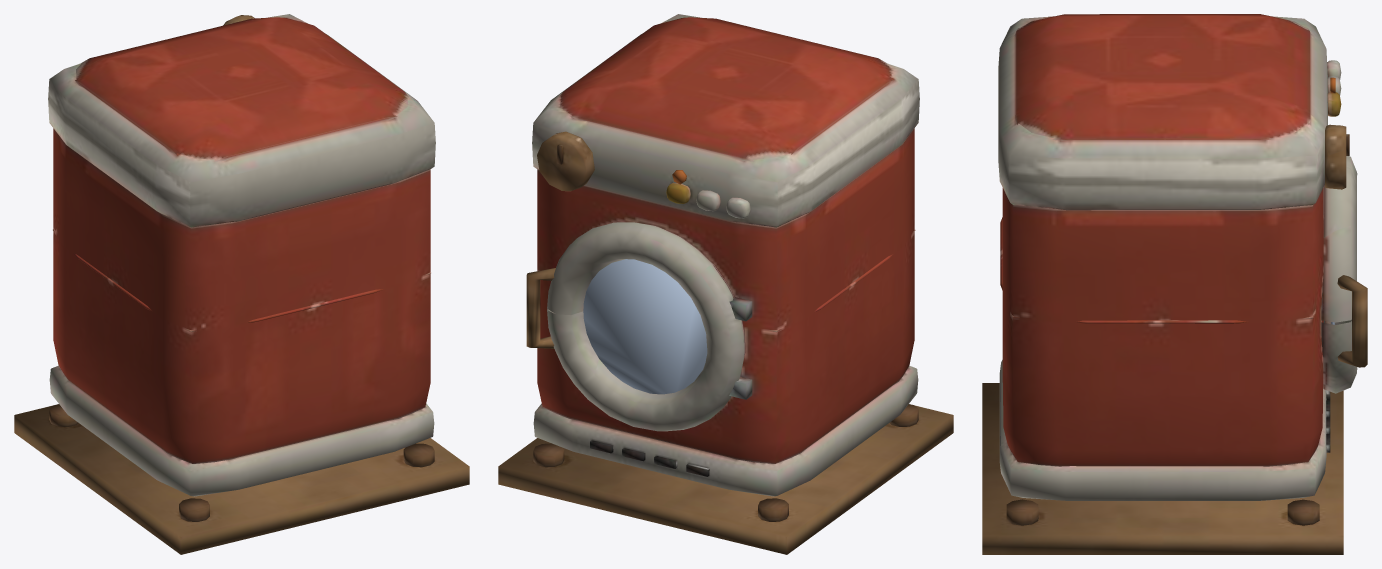
File: table_dryer_red.glb
3 views of the same model, side by side, from view 1: azimuth 30°, elevation 25°; view 2: azimuth 150°, elevation 25°; view 3: azimuth 270°, elevation 25° (orthographic). The views are drawn at different scales.
Parts seen in each view (by area): view 1: prop_table_dryer_red_felt, prop_table_dryer_red_wood; view 2: prop_table_dryer_red_felt, prop_table_dryer_red_wood, prop_table_dryer_red_glass; view 3: prop_table_dryer_red_felt, prop_table_dryer_red_wood.
Boxes of the visible parts, bbox=[...] form: prop_table_dryer_red_felt: bbox=[48, 14, 435, 496]; prop_table_dryer_red_wood: bbox=[14, 15, 469, 554]; prop_table_dryer_red_felt: bbox=[532, 14, 919, 496]; prop_table_dryer_red_wood: bbox=[498, 131, 953, 554]; prop_table_dryer_red_glass: bbox=[583, 259, 707, 394]; prop_table_dryer_red_felt: bbox=[998, 14, 1357, 500]; prop_table_dryer_red_wood: bbox=[982, 124, 1367, 554].
Bounding box in the file's own units: 0.54 × 0.69 × 0.5757.
Materials: 4 (3 with a texture image).
